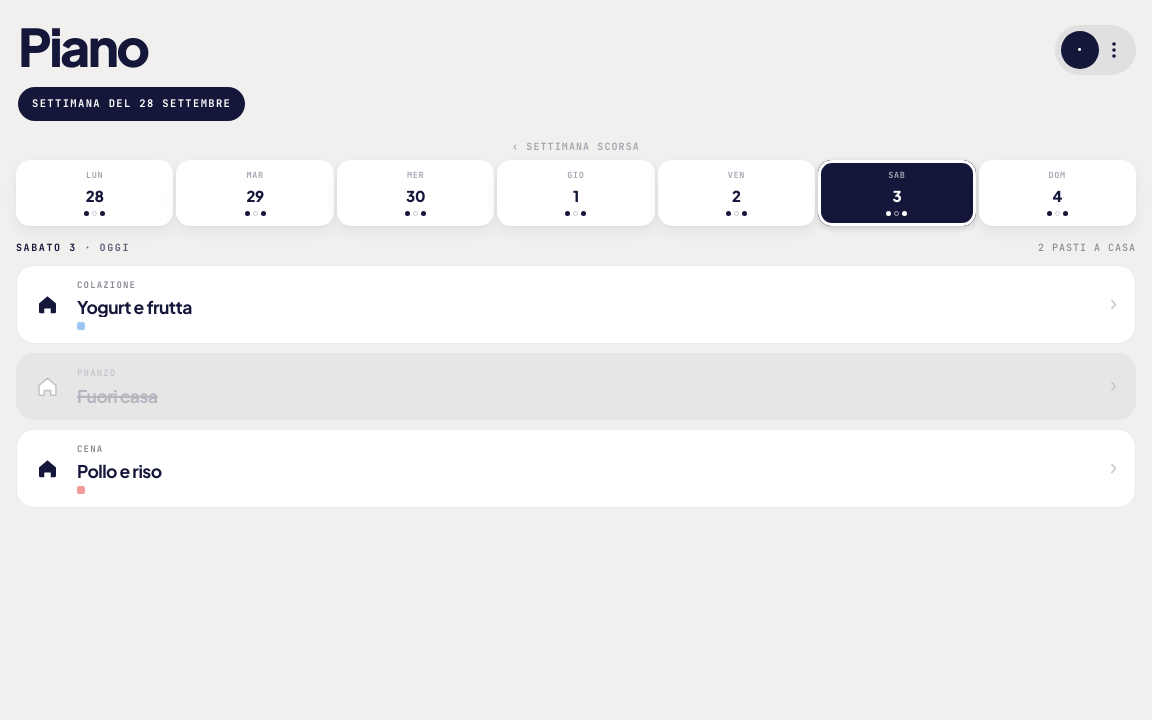
Test case: Settimana (piano alimentare) › l'etichetta titola il giorno scelto col nome, il numero e la parola temporale
Expected: the text "Yogurt e frutta" is shown, [77,297,192,317]
Click the button "LUN 28": (95, 193) [16,160,173,226]
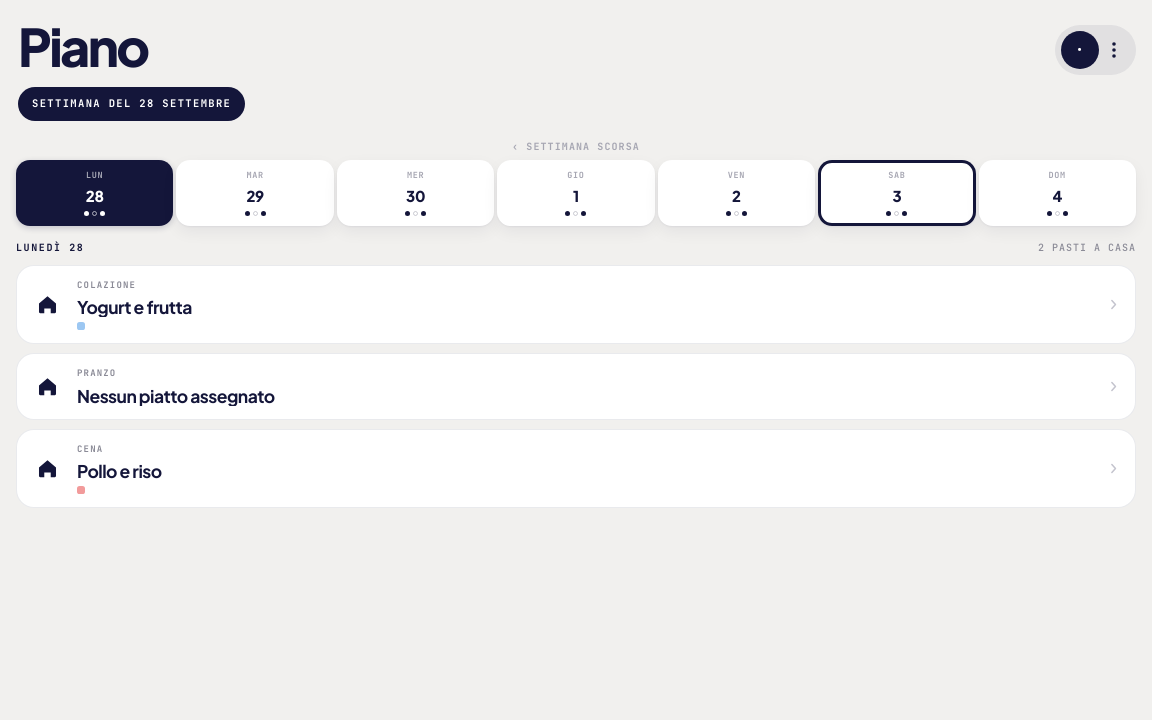
Expected: the text "· Oggi" is gone
